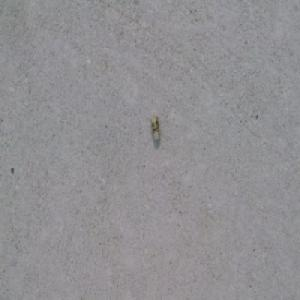BoltNutSet: (150, 117, 159, 143)
